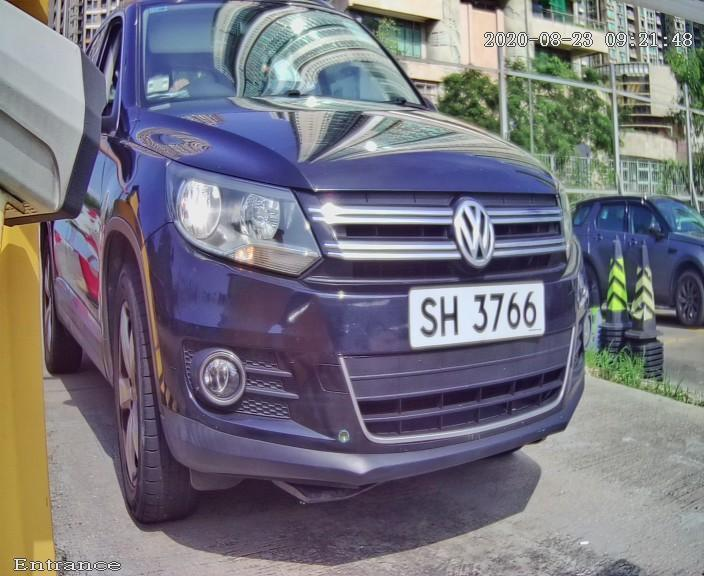Car: (48, 1, 629, 538)
License Plate: (379, 254, 565, 366)
